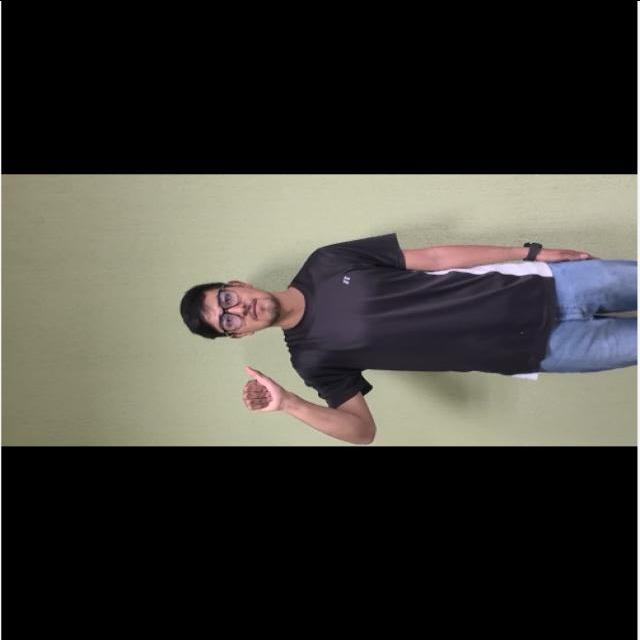A: (232, 355, 294, 417)
